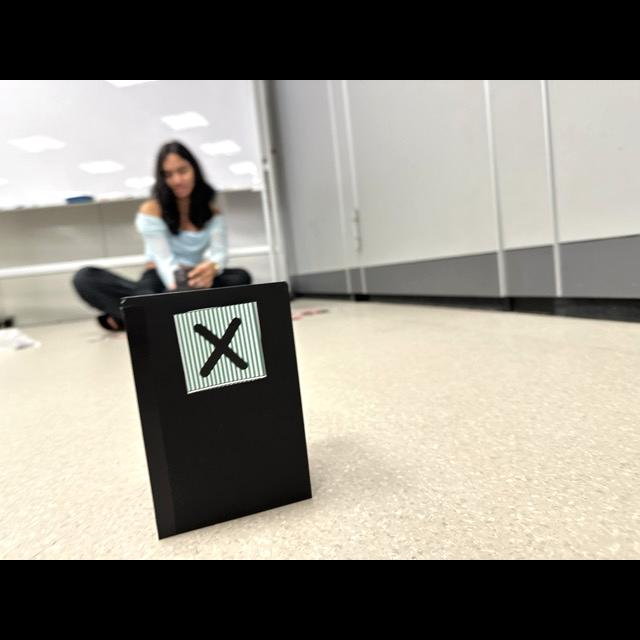X: (194, 317, 247, 376)
